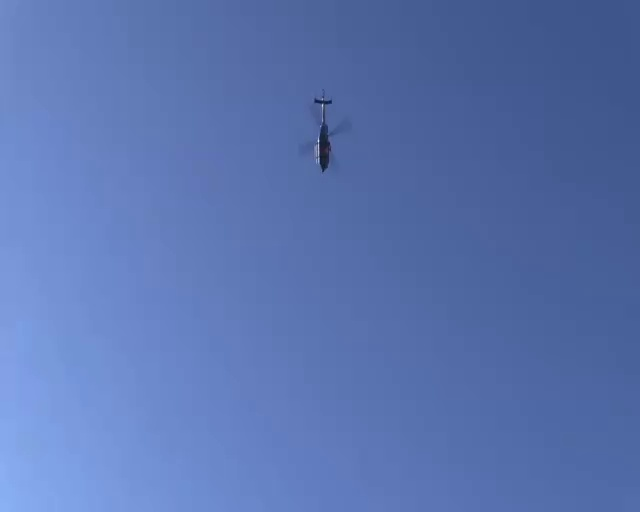HELICOPTER: (298, 87, 353, 173)
